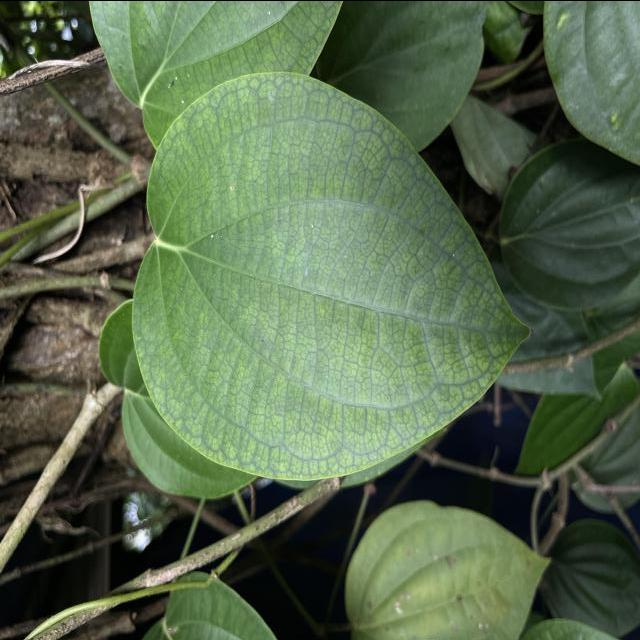Piper nigrum: (127, 64, 534, 487)
